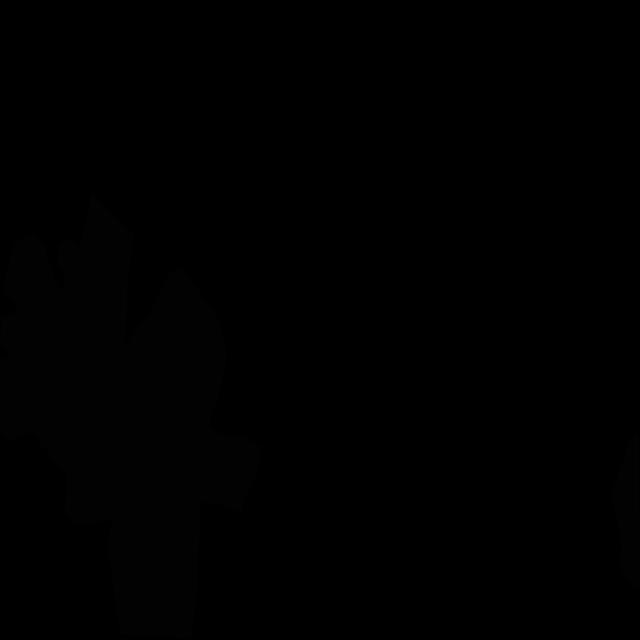cardboard: (0, 192, 262, 639), (612, 432, 640, 593)
